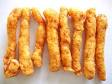kurkure: (3, 3, 110, 81)
